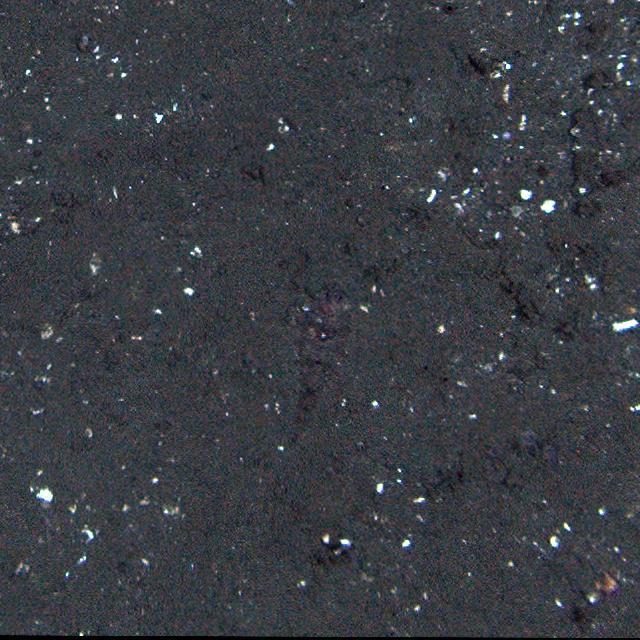flatfish: (280, 284, 351, 455)
